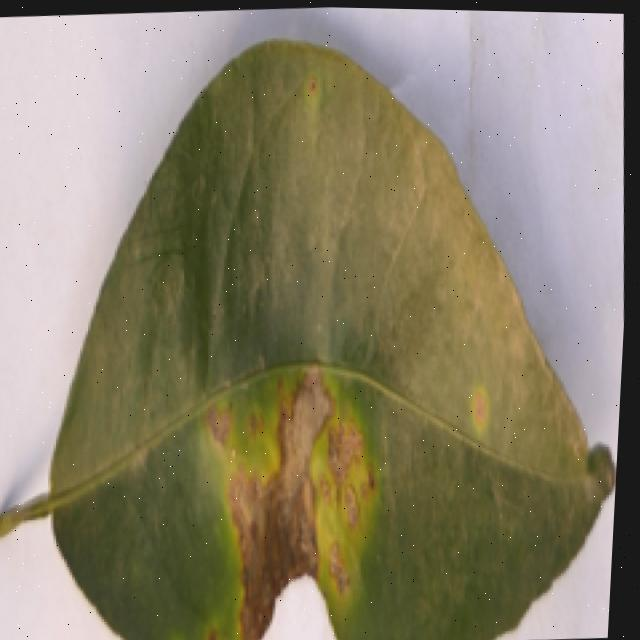canker: (0, 40, 613, 640), (117, 348, 409, 640)
